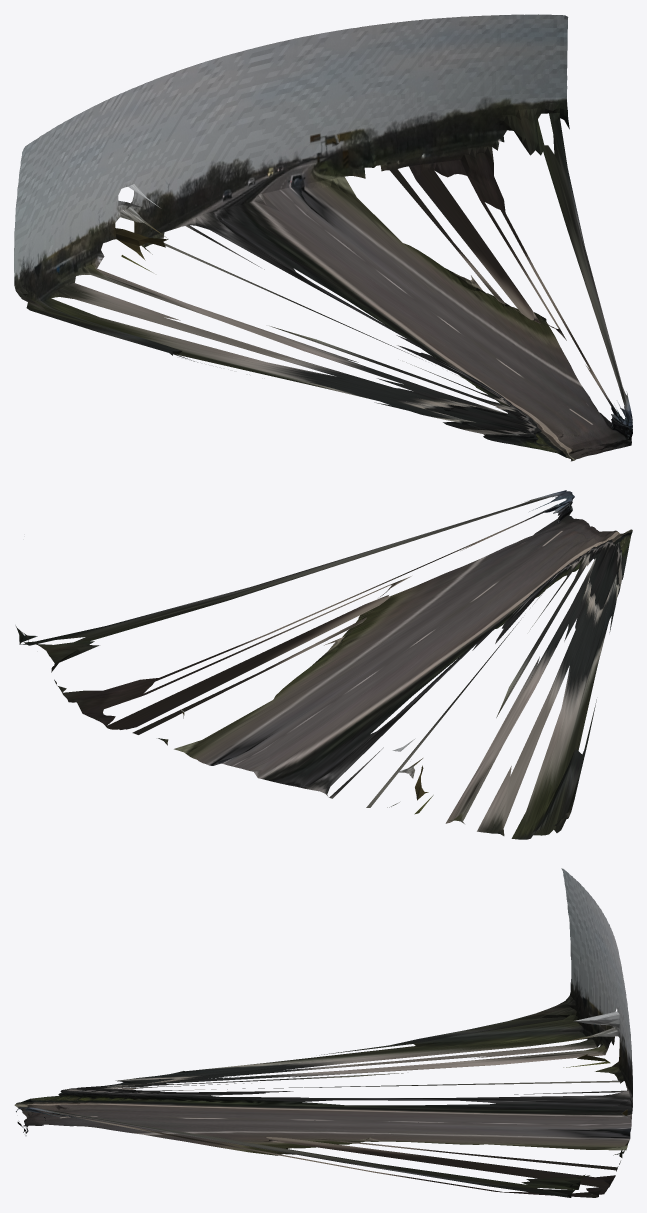
3 views of the same model, one above another, from view 1: azimuth 30°, elevation 25°; view 2: azimuth 150°, elevation 25°; view 3: azimuth 270°, elevation 25° (orthographic). The views are drawn at different scales.
Visible parts, largest first — view 1: defaultobject; view 2: defaultobject; view 3: defaultobject.
Boxes of the visible parts, x1,y1,x2,y2 form: defaultobject: (14,14,632,461); defaultobject: (15,490,632,839); defaultobject: (14,868,632,1197).
Size of the model in its own units: 41.12 by 13.1 by 44.79.
Materials: 1 (1 with a texture image).
